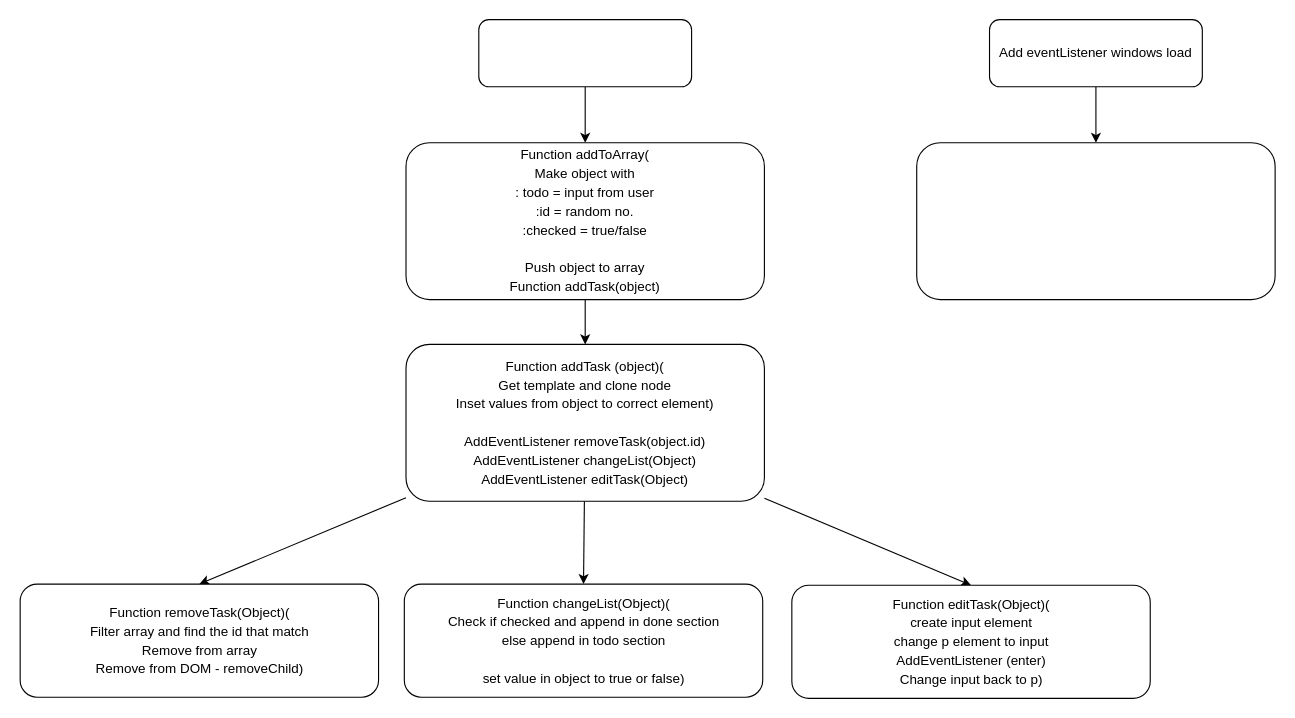
The diagram is 1295 pixels wide and 718 high, and some of its shapes have lost their labels. Each missing label, with the box of its shape:
Add eventListener addToArray: (478, 18, 692, 87)
Get array from LocalStorage ForEach (Object)( Append content): (916, 142, 1275, 300)
